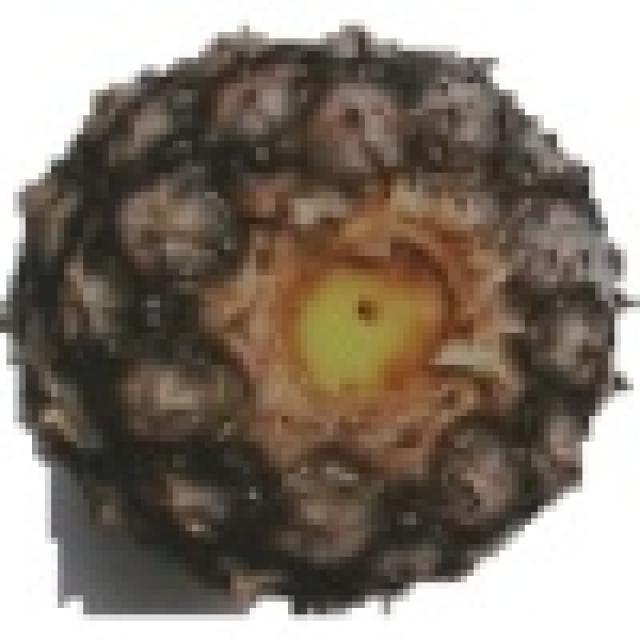pineapple: (26, 19, 627, 602)
